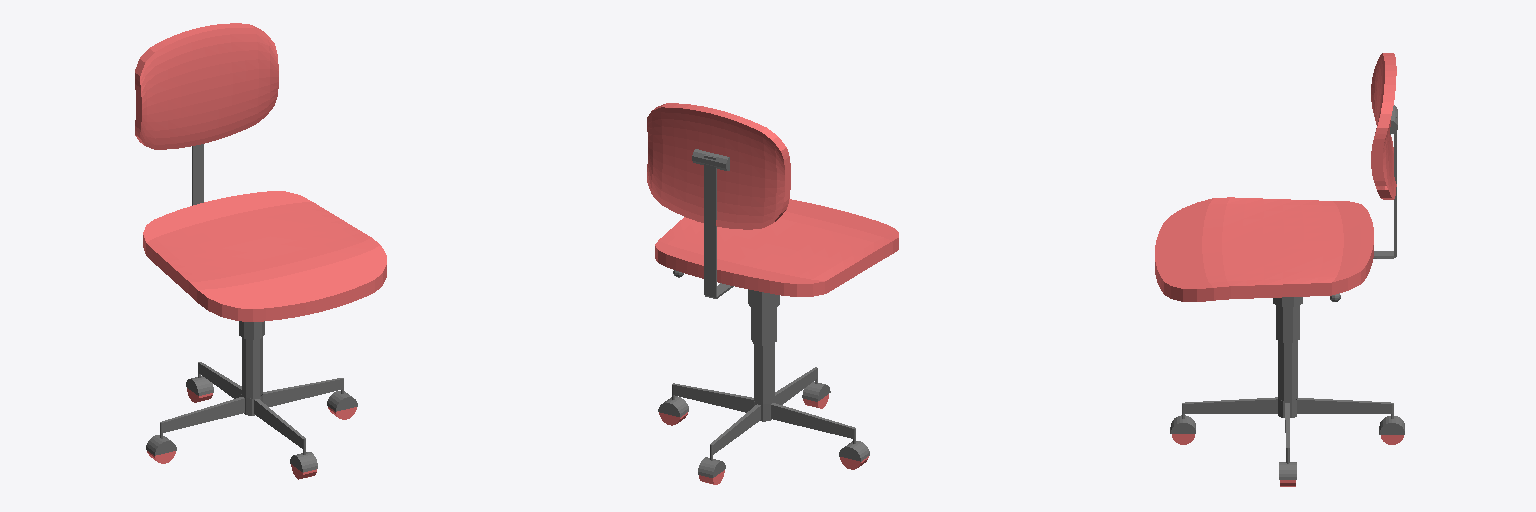
The model's file is chair.obj.
3 views of the same model, side by side, from view 1: azimuth 30°, elevation 25°; view 2: azimuth 150°, elevation 25°; view 3: azimuth 270°, elevation 25° (orthographic).
Parts seen in each view (by area): view 1: Object__35, Object__34, Object__41, Object__26, Object__13, Object__40, Object__16, Object__17, Object__30, Object__14; view 2: Object__38, Object__35, Object__41, Object__26, Object__30, Object__13, Object__40, Object__16, Object__14, Object__17; view 3: Object__35, Object__41, Object__26, Object__40, Object__14, Object__17, Object__34, Object__38.
Part boxes in pixels (left/top/right/bottom): Object__35: left=143, top=191, right=386, bottom=308; Object__34: left=140, top=28, right=278, bottom=149; Object__41: left=143, top=235, right=386, bottom=321; Object__26: left=239, top=321, right=264, bottom=398; Object__13: left=160, top=397, right=244, bottom=438; Object__40: left=135, top=23, right=264, bottom=145; Object__16: left=263, top=378, right=343, bottom=406; Object__17: left=254, top=399, right=305, bottom=454; Object__30: left=192, top=144, right=203, bottom=205; Object__14: left=198, top=362, right=241, bottom=398; Object__38: left=647, top=107, right=784, bottom=229; Object__35: left=655, top=199, right=898, bottom=283; Object__41: left=655, top=238, right=898, bottom=296; Object__26: left=748, top=289, right=779, bottom=404; Object__30: left=704, top=155, right=733, bottom=298; Object__13: left=771, top=403, right=855, bottom=443; Object__40: left=652, top=103, right=790, bottom=221; Object__16: left=672, top=383, right=753, bottom=412; Object__14: left=710, top=404, right=760, bottom=460; Object__17: left=774, top=367, right=817, bottom=404; Object__35: left=1155, top=197, right=1373, bottom=288; Object__41: left=1155, top=245, right=1373, bottom=301; Object__26: left=1273, top=297, right=1302, bottom=400; Object__40: left=1371, top=53, right=1396, bottom=199; Object__14: left=1297, top=398, right=1393, bottom=418; Object__17: left=1182, top=397, right=1277, bottom=418; Object__34: left=1371, top=53, right=1384, bottom=189; Object__38: left=1383, top=120, right=1396, bottom=198.
Bounding box in the file's own units: 20.25 × 35.3 × 21.62.